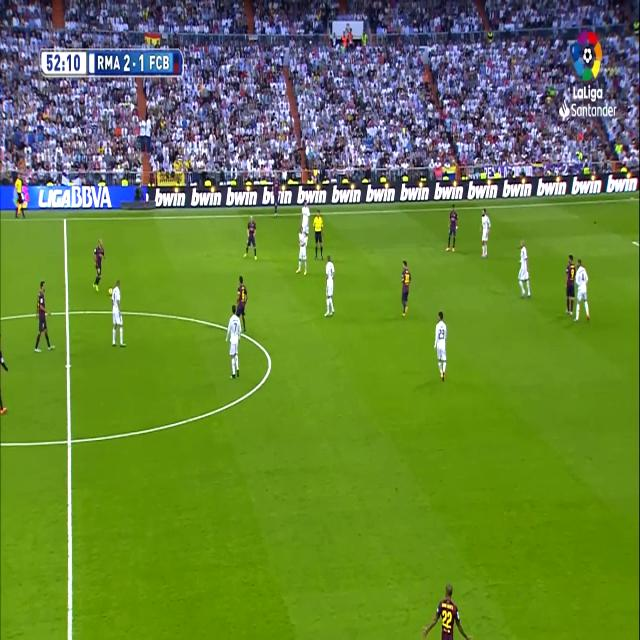bigarea_top_inner: (629, 232, 639, 252)
halfcircle_bottom: (62, 424, 76, 455)
halfcircle_top: (62, 299, 72, 324)
midline_top_intersection: (61, 212, 69, 226)
